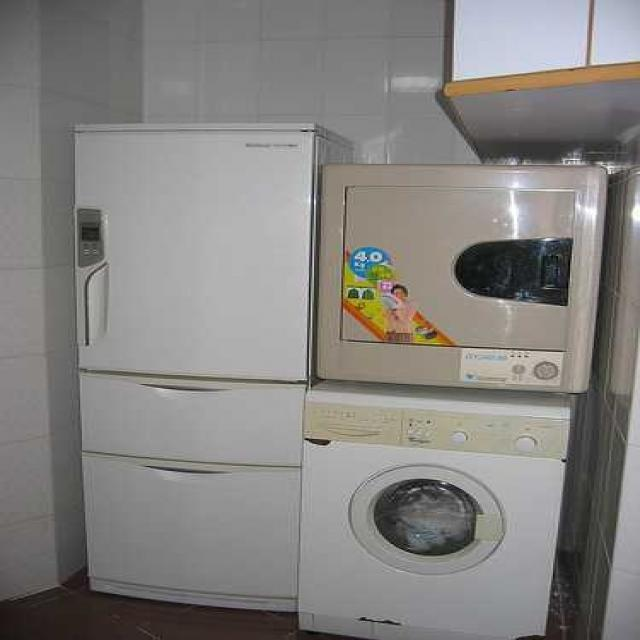refrigerator: (70, 122, 318, 614)
